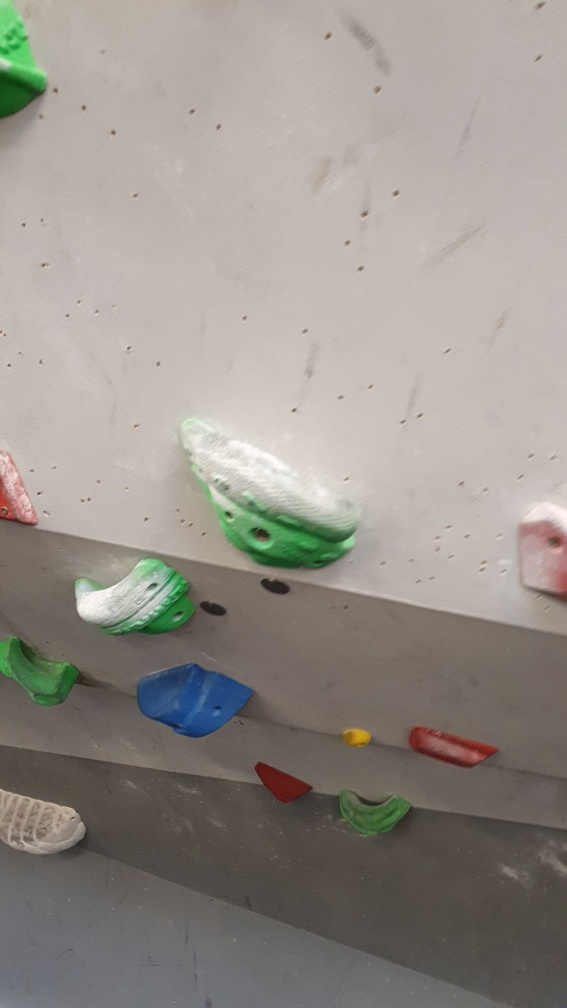Crimp: (408, 716, 501, 778)
Hand Start: (200, 592, 235, 625), (258, 574, 297, 601)
Jug: (174, 410, 364, 574), (71, 553, 200, 639), (1, 630, 84, 713), (335, 781, 420, 836)
Pinch: (133, 656, 258, 743)
